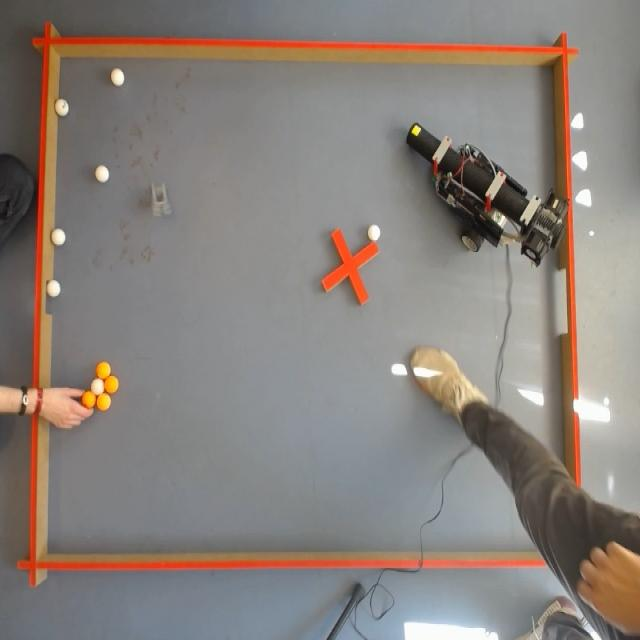orange: (80, 389, 97, 408), (96, 391, 111, 412), (95, 360, 112, 378), (105, 374, 120, 394)
robot: (407, 123, 569, 265)
robot-front: (407, 123, 437, 159)
white: (94, 163, 110, 185), (50, 228, 67, 248), (89, 376, 106, 396), (110, 67, 126, 88), (54, 98, 71, 117), (46, 280, 62, 298), (368, 222, 382, 242)
